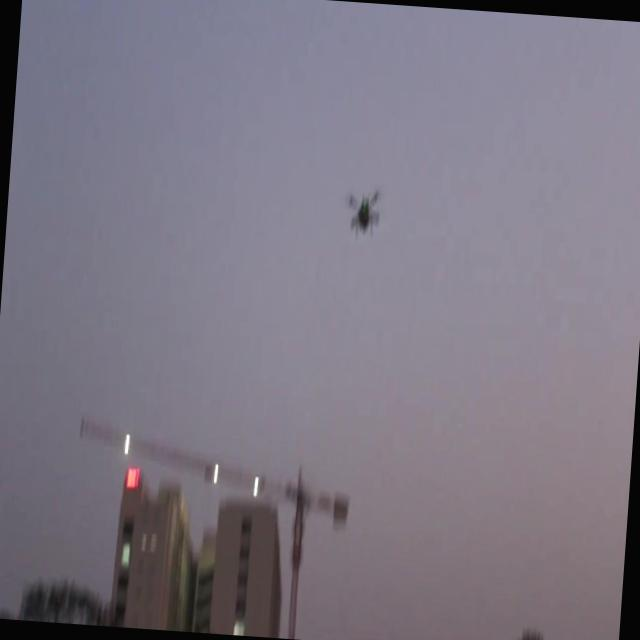drone: (344, 182, 384, 242)
